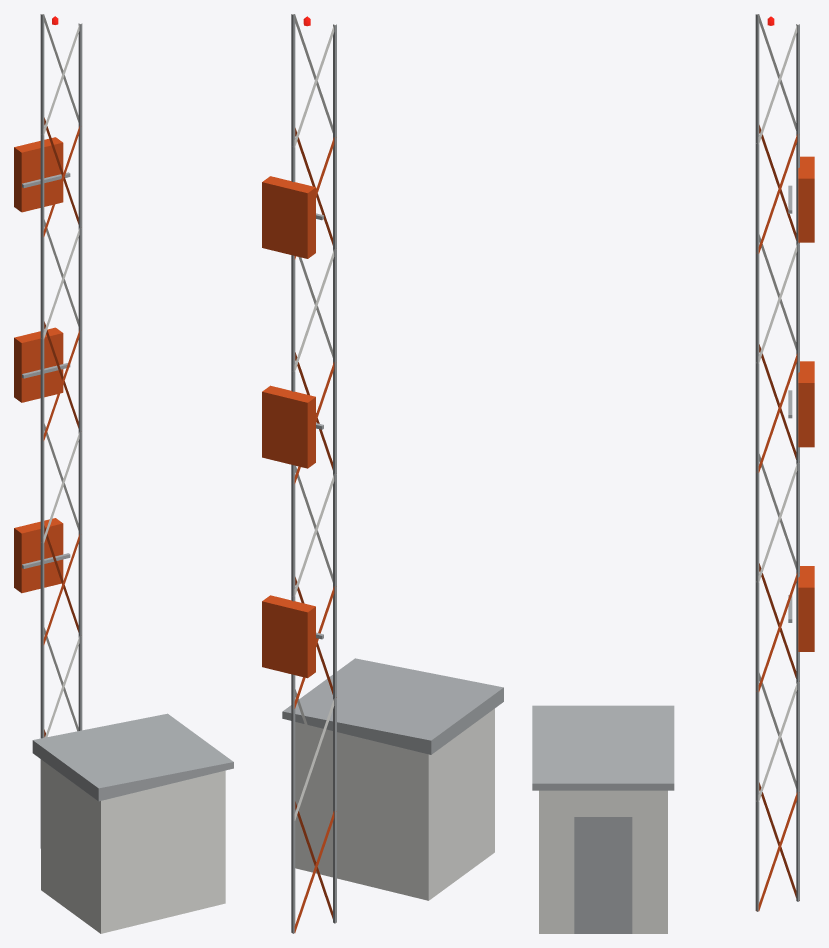
Rendered from glide_slope_mast.glb.
The picture shows the model from 3 angles, left to right: view 1: azimuth 30°, elevation 25°; view 2: azimuth 150°, elevation 25°; view 3: azimuth 270°, elevation 25°; orthographic projection. The views are drawn at different scales.
Visible parts, largest first — view 1: LOD0; view 2: LOD0; view 3: LOD0.
Boxes of the visible parts, x1,y1,x2,y2 form: LOD0: (14, 14, 233, 933); LOD0: (262, 14, 503, 933); LOD0: (532, 14, 814, 933).
Bounding box in the file's own units: 2.6 × 15.15 × 4.38.
Materials: 4 (1 with a texture image).
